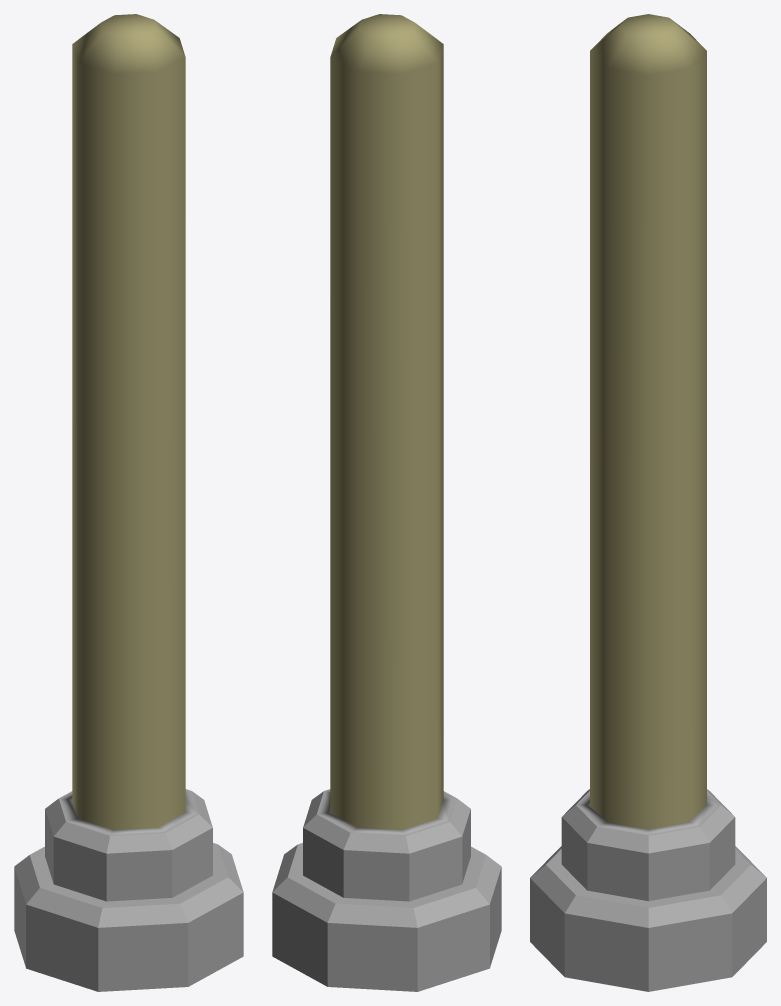
The model's file is floor_lamp.fbx.
The picture shows the model from 3 angles, left to right: view 1: azimuth 30°, elevation 25°; view 2: azimuth 150°, elevation 25°; view 3: azimuth 270°, elevation 25°; orthographic projection.
Visible parts, largest first — view 1: pCylinder1; view 2: pCylinder1; view 3: pCylinder1.
Boxes of the visible parts, x1,y1,x2,y2 form: pCylinder1: (14,14,243,991); pCylinder1: (272,14,501,991); pCylinder1: (530,14,766,991).
Size of the model in its own units: 0.3629 by 1.55 by 0.3629.
